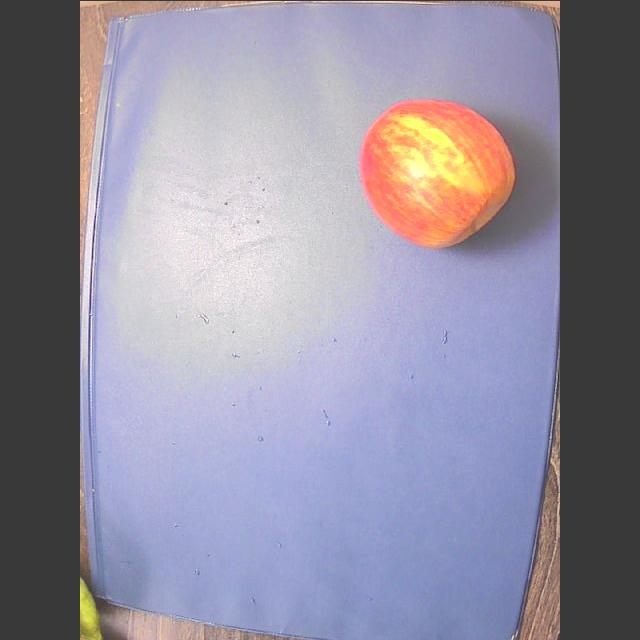manzana: (360, 99, 514, 247)
